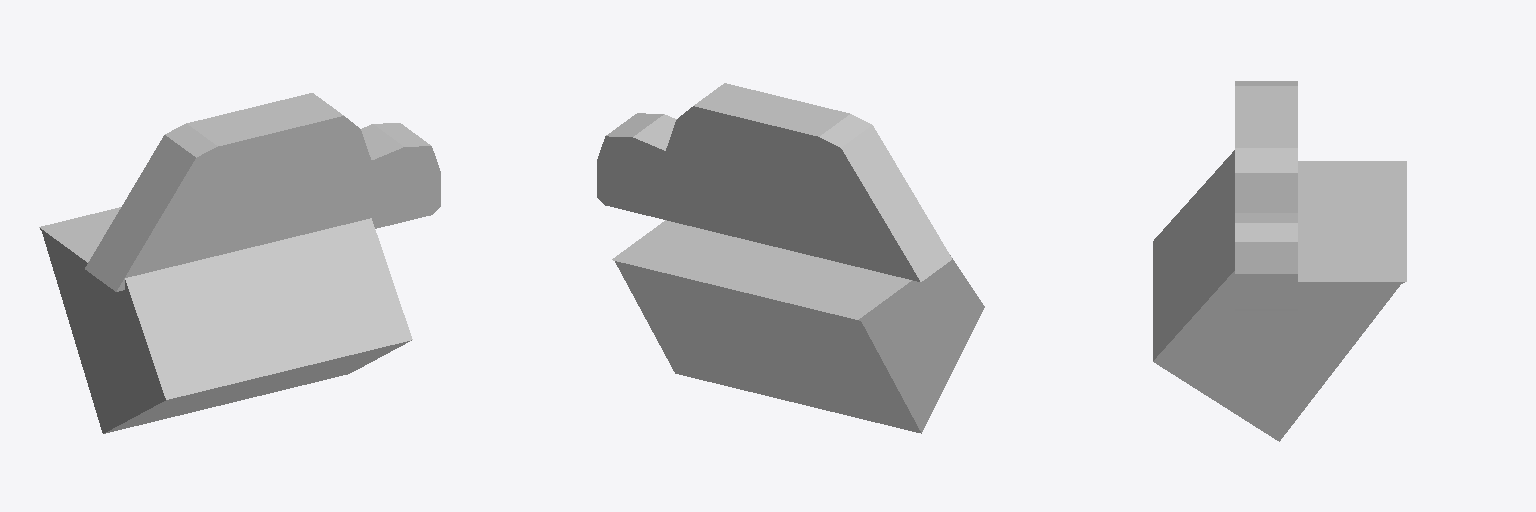
The model's file is col12.obj.
The picture shows the model from 3 angles: view 1: azimuth 30°, elevation 25°; view 2: azimuth 150°, elevation 25°; view 3: azimuth 270°, elevation 25°; orthographic projection.
Visible parts, largest first — view 1: Körper12; view 2: Körper12; view 3: Körper12.
Part boxes in pixels (bbox=[...]): Körper12: bbox=[39, 93, 440, 433]; Körper12: bbox=[597, 83, 984, 433]; Körper12: bbox=[1153, 81, 1406, 441].
Bounding box in the file's own units: 0.0592 × 0.049 × 0.0402.